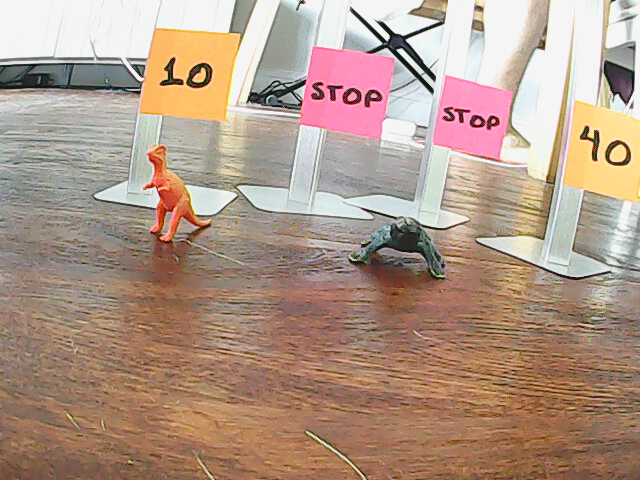10: (156, 42, 224, 116)
40: (574, 113, 636, 192)
dinosaur: (140, 140, 214, 246)
stop: (307, 63, 386, 124), (441, 87, 501, 154)
turtle: (346, 214, 452, 282)
